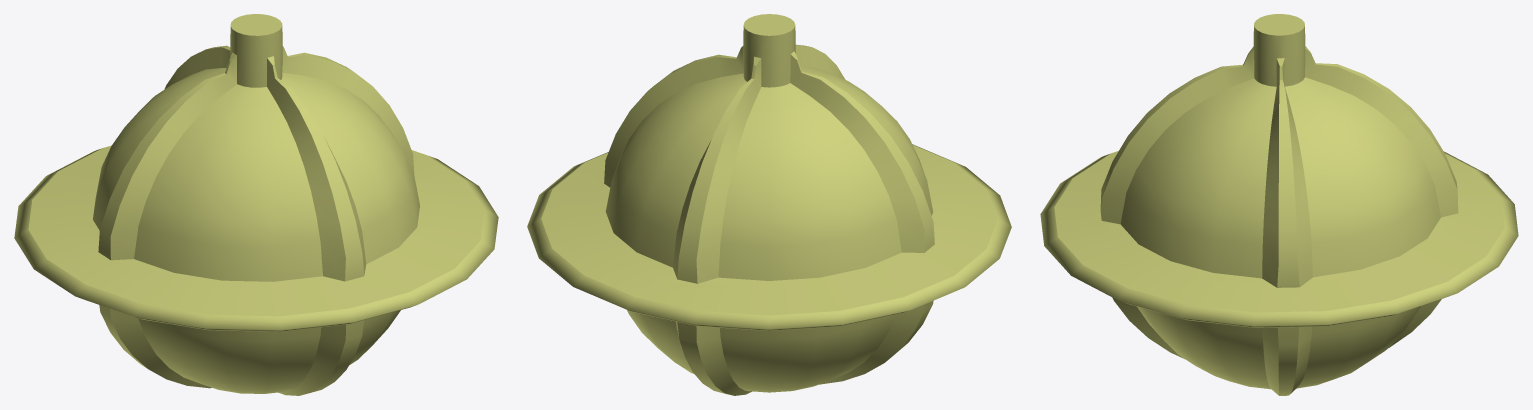
Rendered from lamp.obj.
3 renders of one model, left to right at view 1: azimuth 30°, elevation 25°; view 2: azimuth 150°, elevation 25°; view 3: azimuth 270°, elevation 25°, orthographic.
Visible parts, largest first — view 1: lamp_esfera1_lamp_18:pSphere7Shape_229_0.001; view 2: lamp_esfera1_lamp_18:pSphere7Shape_229_0.001; view 3: lamp_esfera1_lamp_18:pSphere7Shape_229_0.001.
Boxes of the visible parts, x1=… form: lamp_esfera1_lamp_18:pSphere7Shape_229_0.001: x1=14, y1=14, x2=498, y2=395; lamp_esfera1_lamp_18:pSphere7Shape_229_0.001: x1=527, y1=14, x2=1011, y2=395; lamp_esfera1_lamp_18:pSphere7Shape_229_0.001: x1=1040, y1=14, x2=1518, y2=395.
Size of the model in its own units: 1 by 0.8107 by 1.
1 material, 1 textured.
